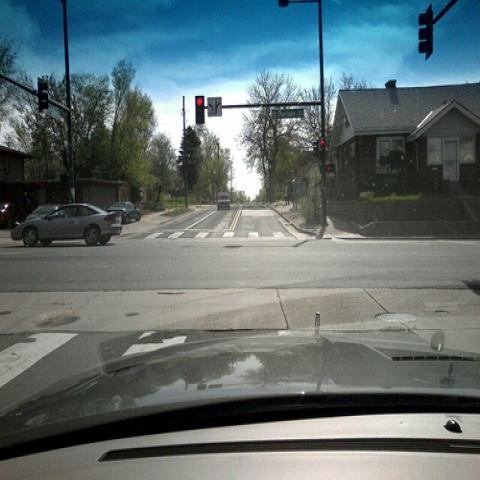car: (0, 325, 479, 479), (10, 203, 124, 247), (107, 201, 142, 224), (26, 206, 60, 220), (0, 202, 13, 229)
truck: (217, 191, 231, 211)
